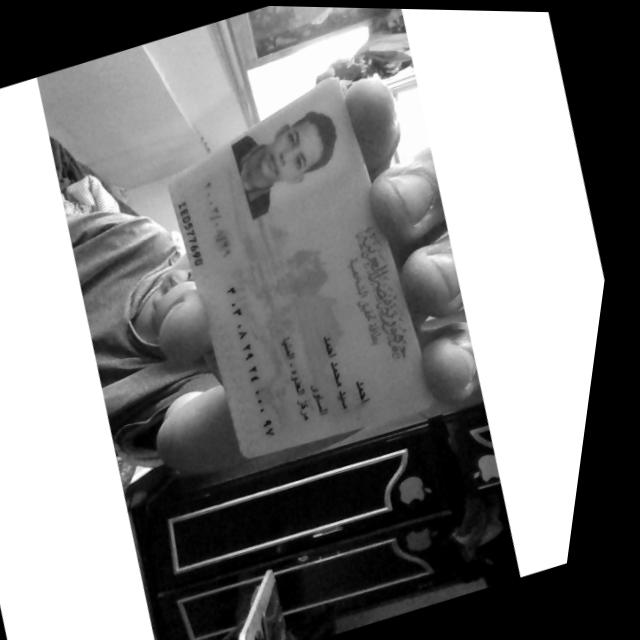id_card: (168, 78, 431, 457)
